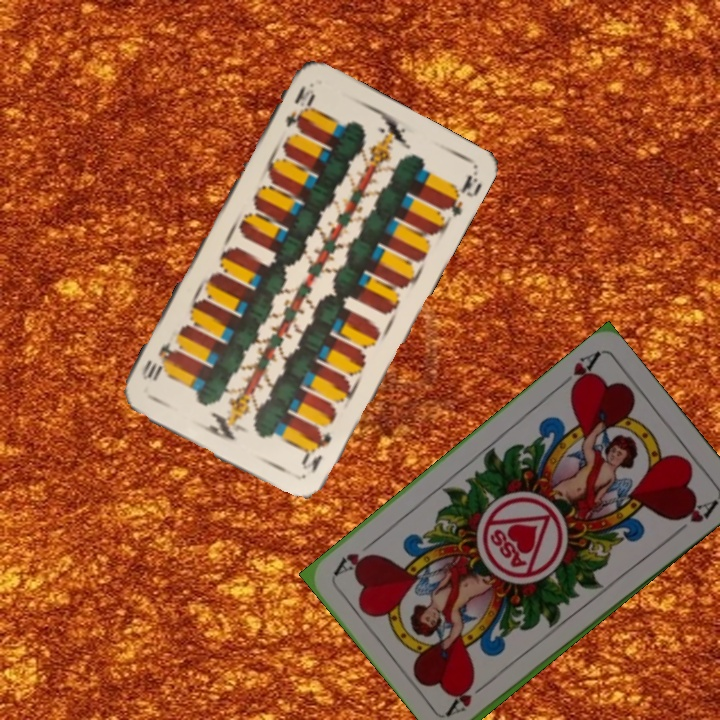E10: (281, 81, 318, 132), (298, 427, 335, 476)
HA: (553, 347, 603, 396), (443, 675, 495, 718)
